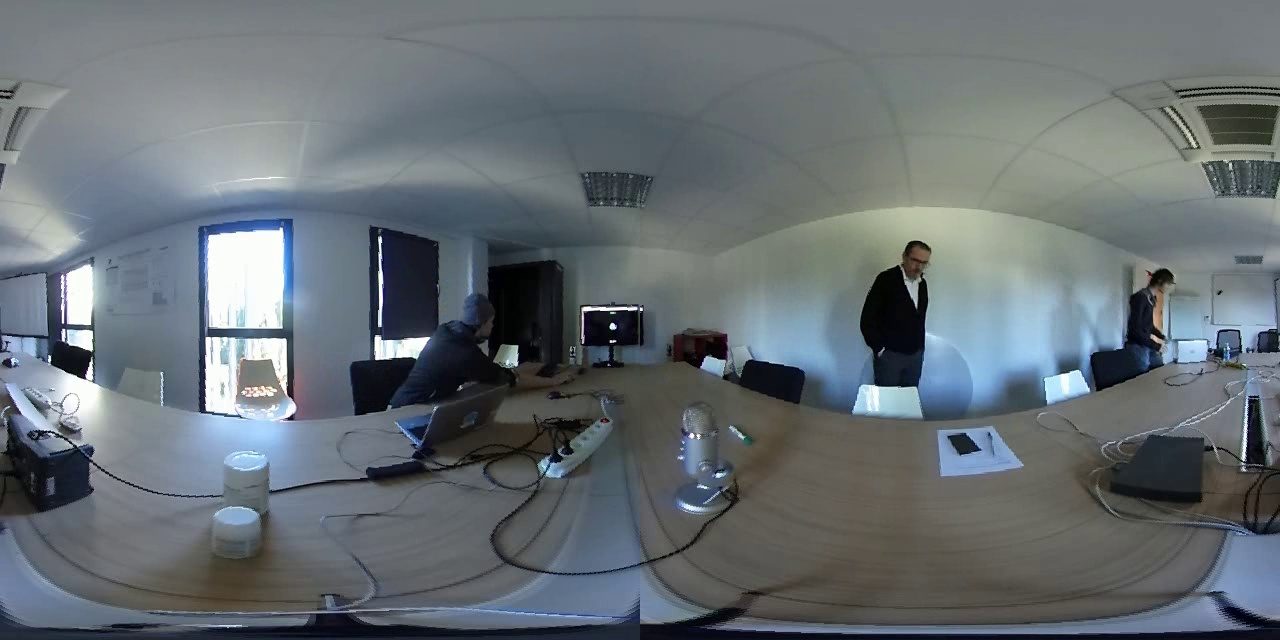person: (856, 231, 958, 389), (401, 288, 513, 391), (1123, 259, 1183, 365)
